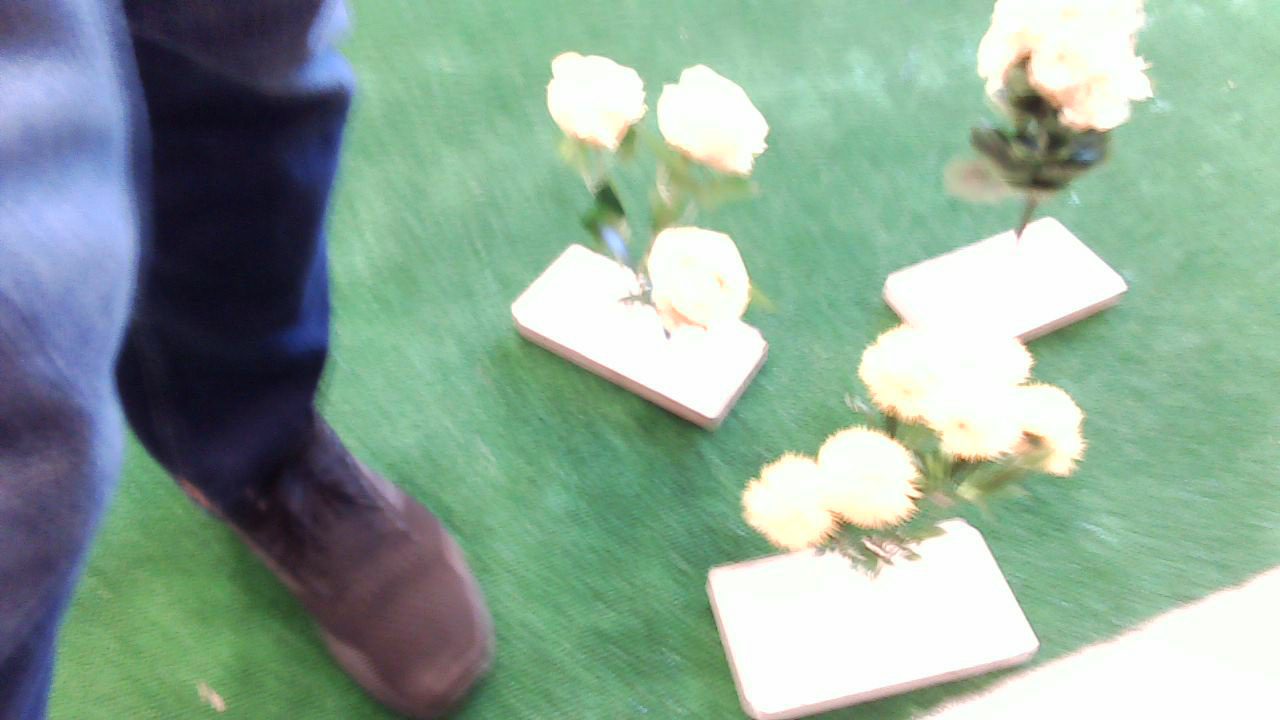dandelion: (744, 330, 1094, 588)
geranium: (911, 1, 1194, 216)
rose: (502, 35, 799, 332)
